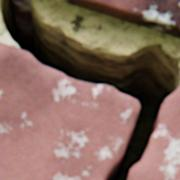brick: (55, 0, 179, 39)
broken_brick: (0, 44, 138, 179), (128, 87, 179, 179)
crack: (1, 0, 178, 179)
